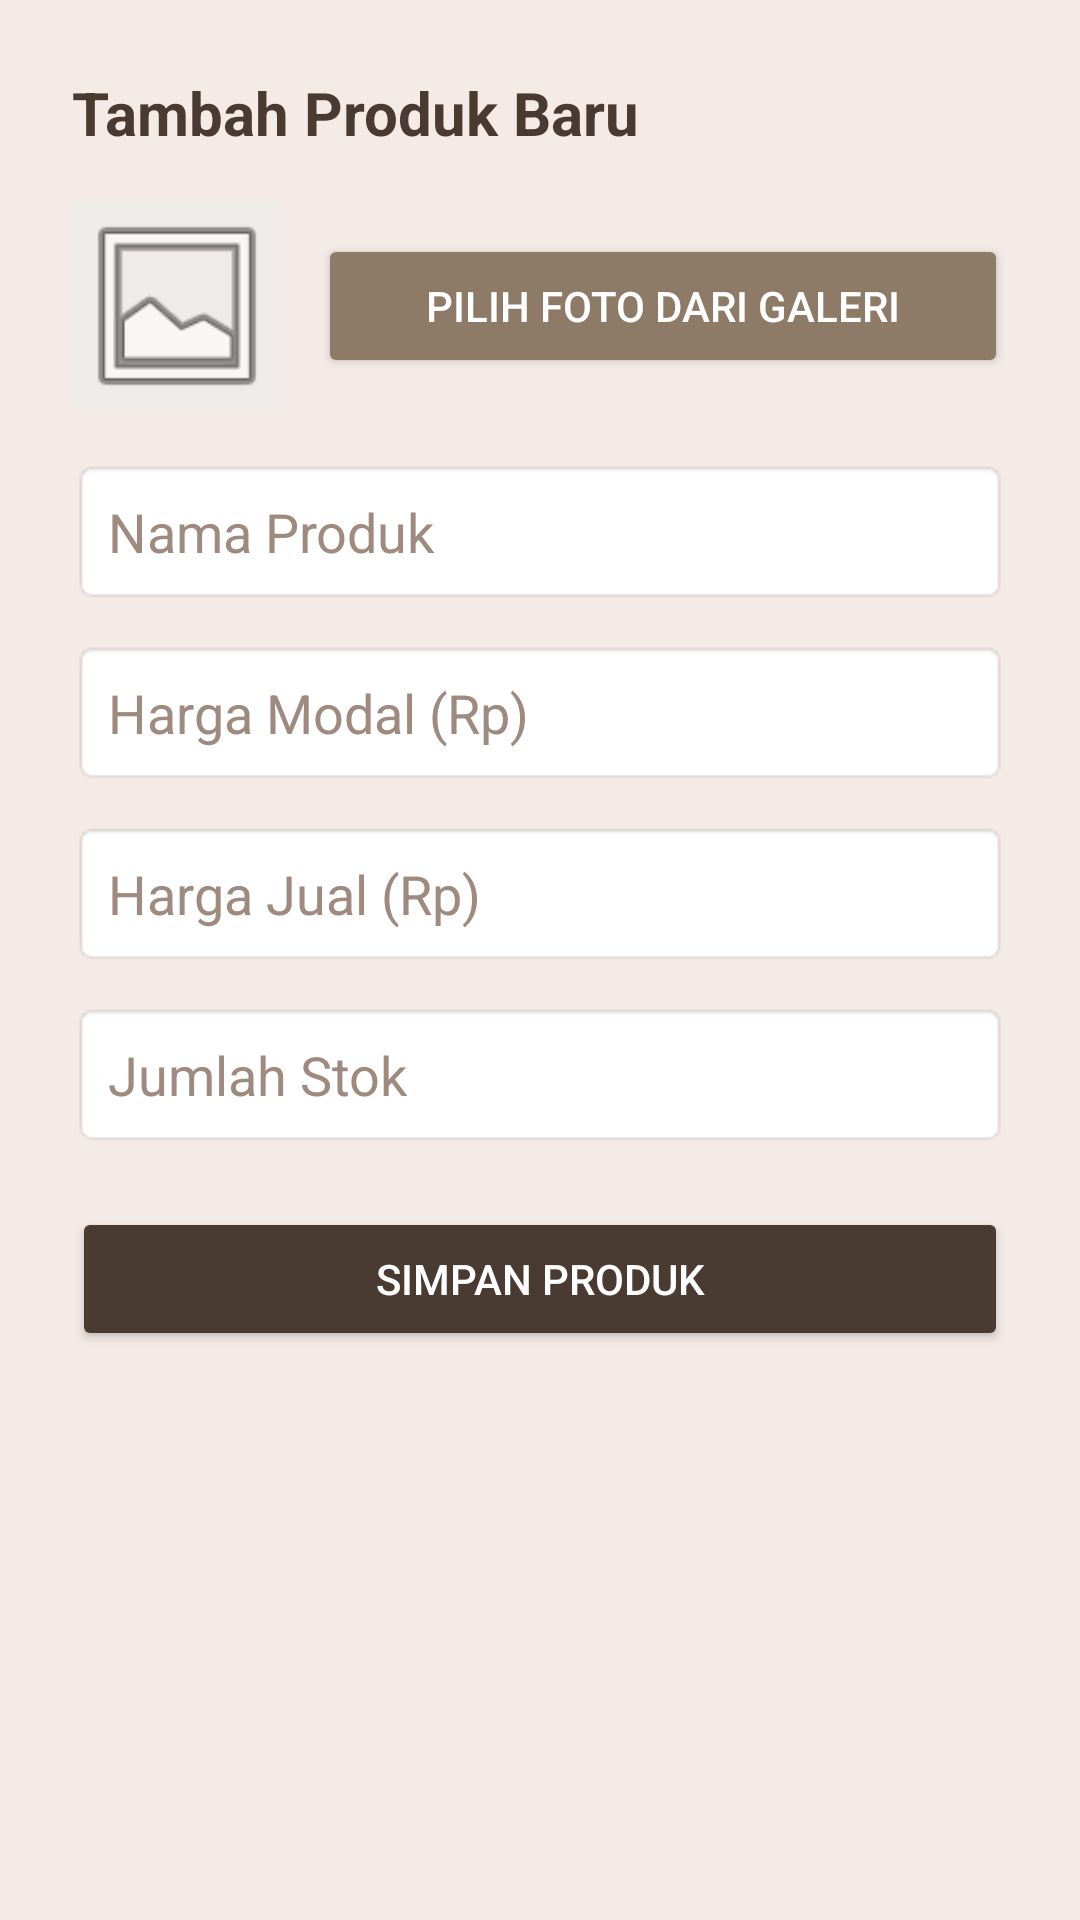

Locate icon controls on the screen. Image size 1080x1920, boxes as (x1=x1, y1=y1, x2=x2, y2=y2).
gallery: (x1=97, y1=226, x2=257, y2=386)
